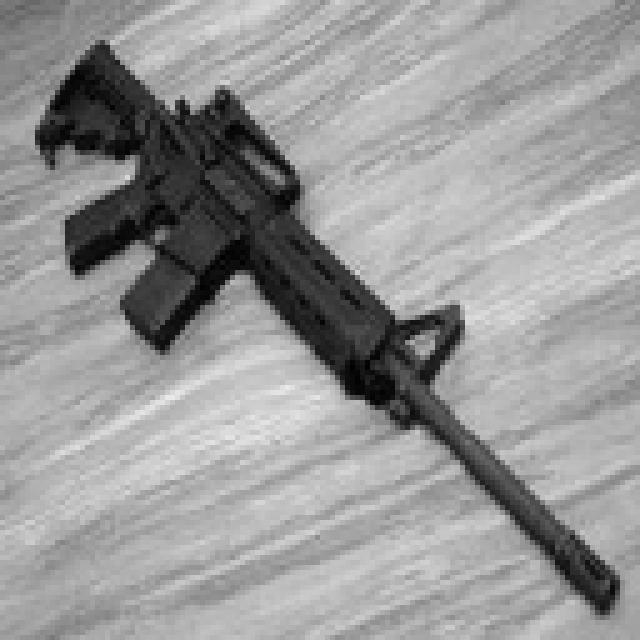Rifle: (12, 49, 640, 620), (626, 18, 636, 72)
